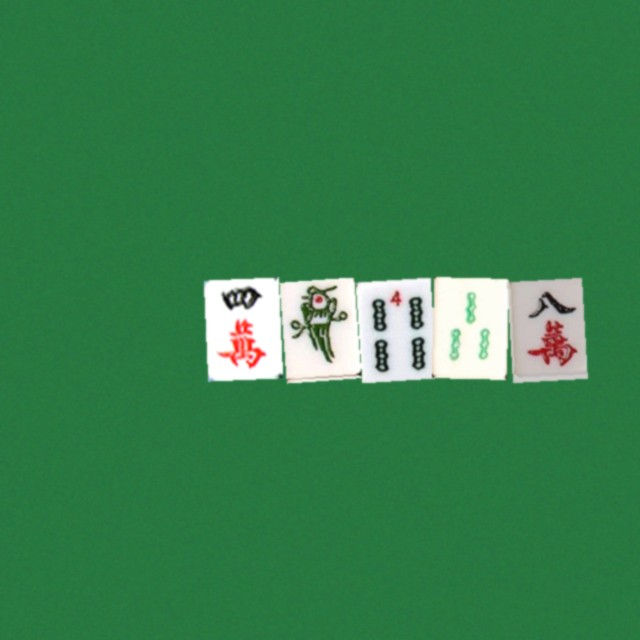tile: (203, 277, 278, 378), (279, 277, 354, 378), (355, 277, 430, 378), (431, 277, 506, 378), (507, 277, 582, 378)
